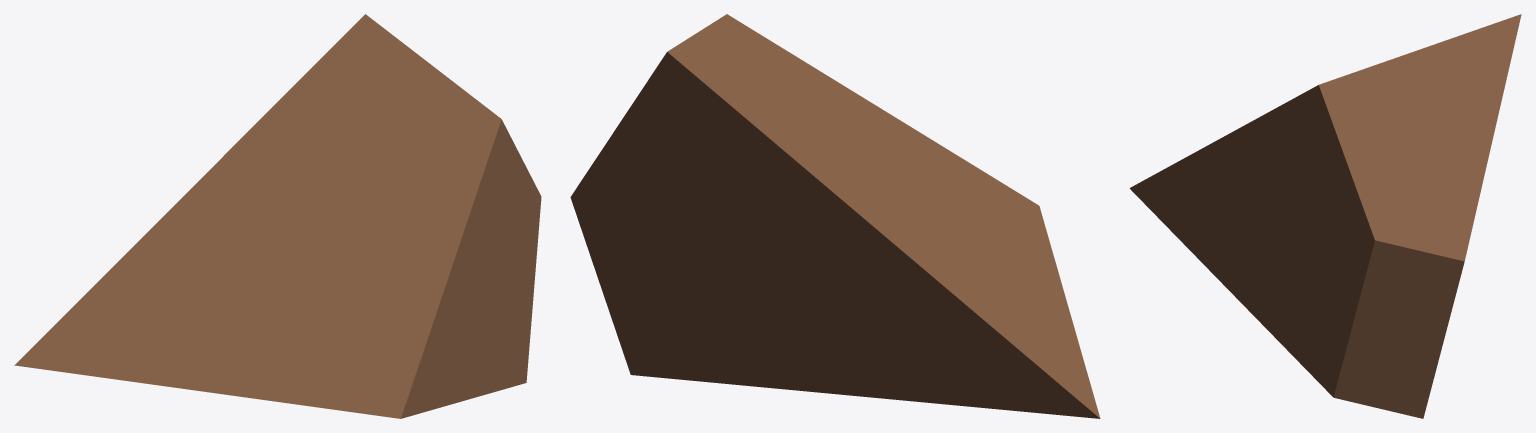
The model's file is WoodCellCube_003_cell_034.fbx.
3 views of the same model, side by side, from view 1: azimuth 30°, elevation 25°; view 2: azimuth 150°, elevation 25°; view 3: azimuth 270°, elevation 25° (orthographic). The views are drawn at different scales.
Parts seen in each view (by area): view 1: WoodCellCube_003_cell_034; view 2: WoodCellCube_003_cell_034; view 3: WoodCellCube_003_cell_034.
Boxes of the visible parts, x1,y1,x2,y2 form: WoodCellCube_003_cell_034: (14,14,541,418); WoodCellCube_003_cell_034: (570,14,1100,418); WoodCellCube_003_cell_034: (1129,14,1521,418).
Bounding box in the file's own units: 0.2935 × 0.3006 × 0.4447.
1 material, 1 textured.
